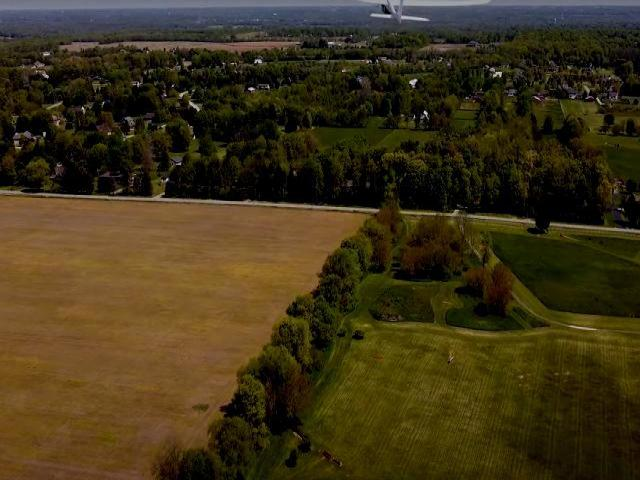iha: (281, 0, 491, 24)
